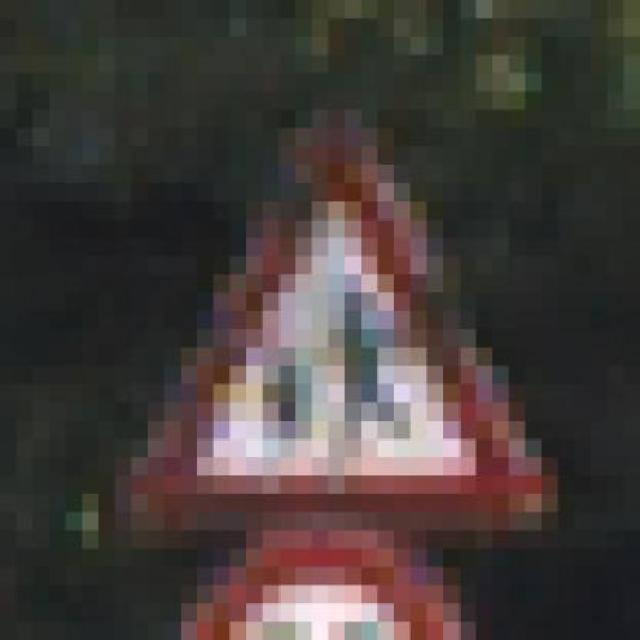Beware of children: (115, 92, 558, 530)
